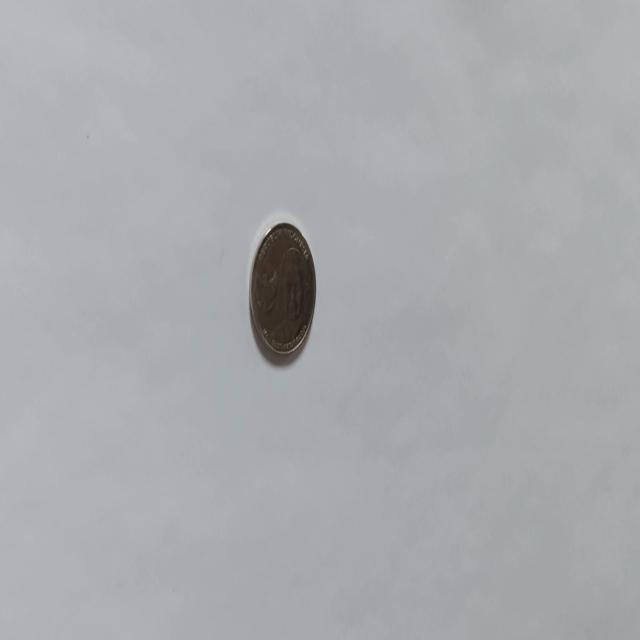seribu rupiah koin: (248, 218, 316, 358)
